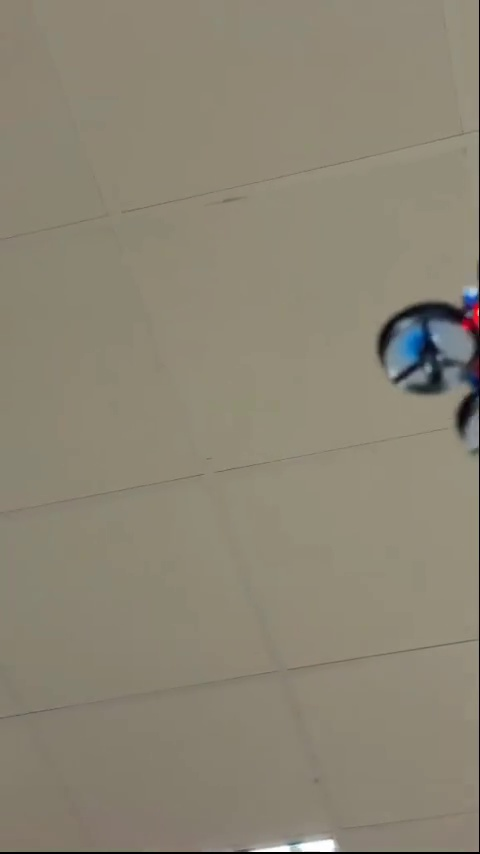drone: (373, 259, 480, 452)
